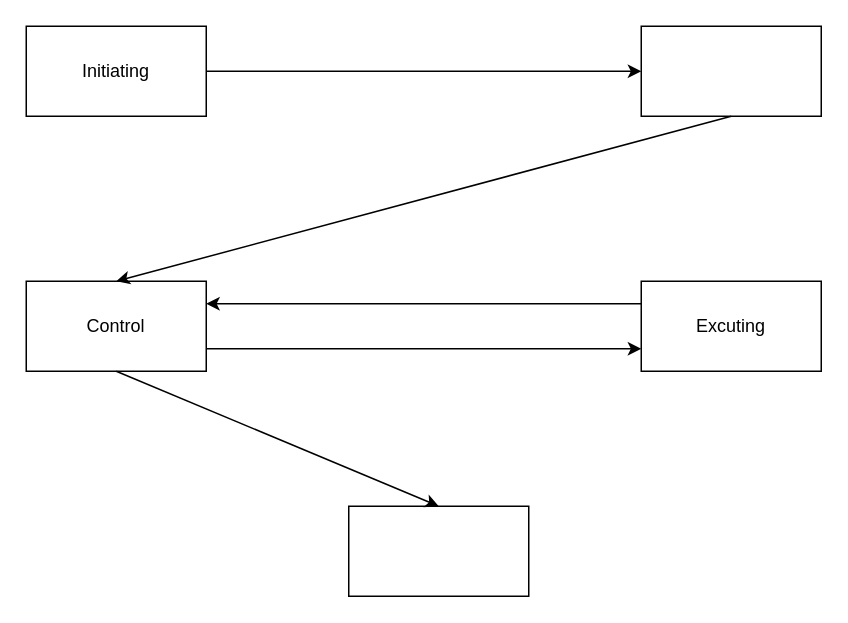
Some shapes in this 848 by 623 pixel diagram are drawn without their labels. The shapes that lost their labels are listed below. From the top down, each one's box as (x1, y1, x2, y2) in pixels, then its label:
(640, 25, 821, 116): Planning
(347, 505, 529, 596): Closing
